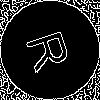R: (25, 25, 80, 74)
